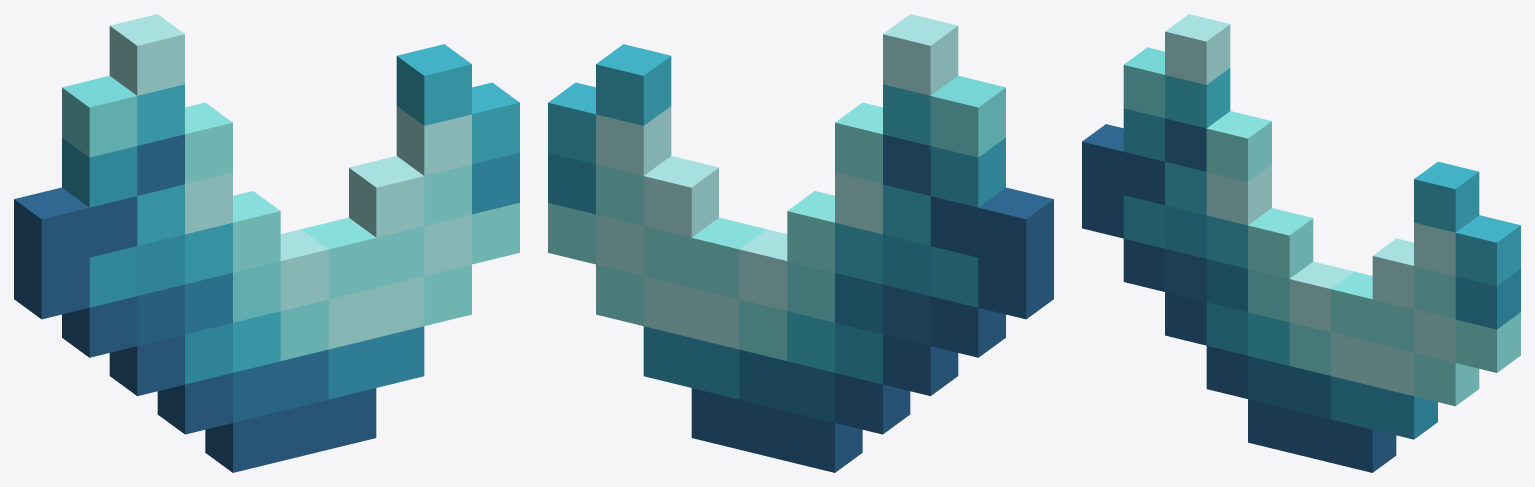
The model's file is Diamond Fragment.glb.
3 renders of one model, left to right at view 1: azimuth 30°, elevation 25°; view 2: azimuth 150°, elevation 25°; view 3: azimuth 330°, elevation 25°, orthographic. The views are drawn at different scales.
Visible parts, largest first — view 1: Untitled; view 2: Untitled; view 3: Untitled.
Boxes of the visible parts, left/top/right/bottom form: Untitled: left=14, top=14, right=519, bottom=472; Untitled: left=548, top=14, right=1053, bottom=472; Untitled: left=1082, top=14, right=1520, bottom=472.
Size of the model in its own units: 5 by 4.5 by 0.5.
Materials: 1 (1 with a texture image).
